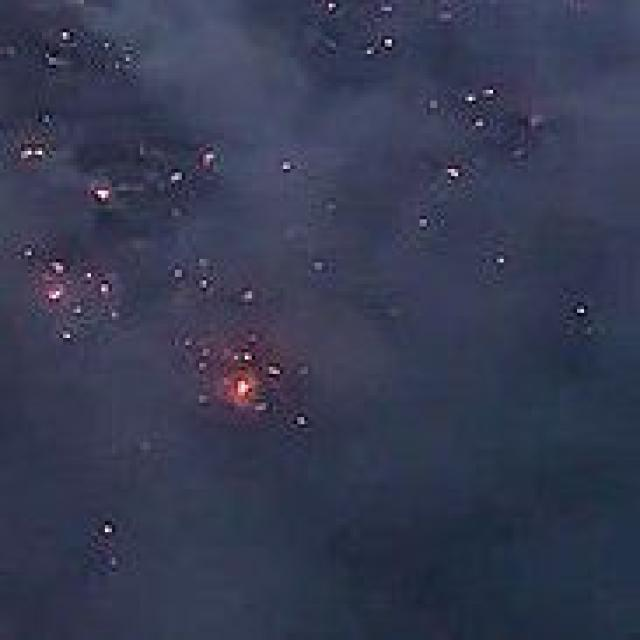Fire: (81, 176, 122, 216), (228, 366, 261, 412), (46, 281, 70, 303)
Smoke: (0, 0, 640, 640)
